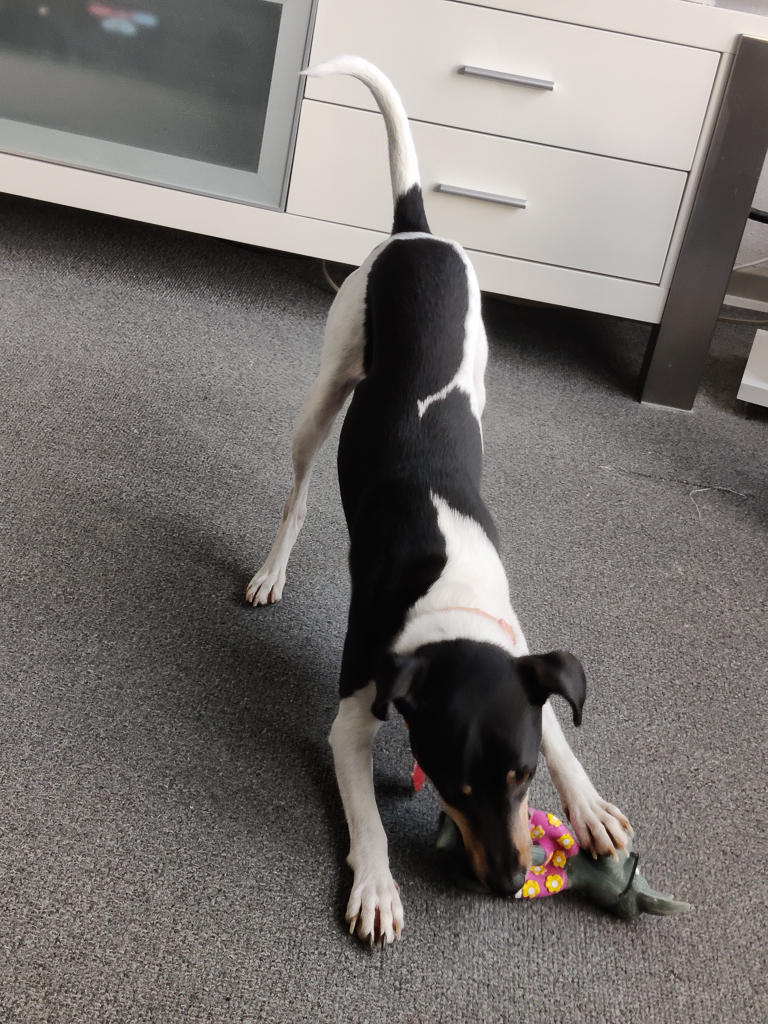Dog: (231, 39, 642, 950)
Humanoid: (415, 770, 716, 938)
